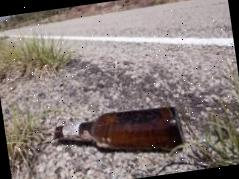glass: (50, 100, 190, 168)
